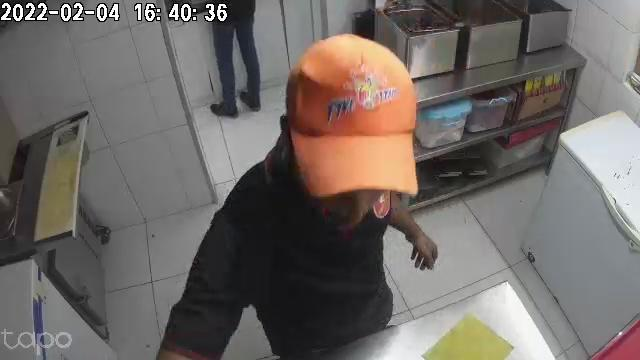no_gloves: (404, 224, 440, 273)
